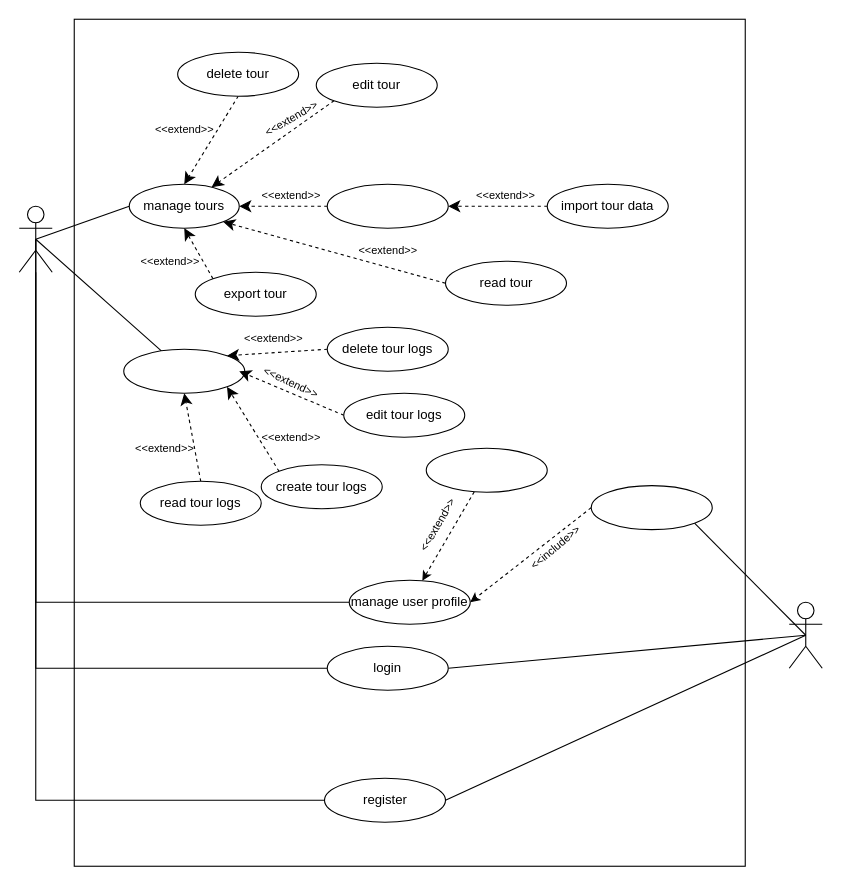
The diagram is 864 pixels wide and 886 high, and some of its shapes have lost their labels. Here are the shapes that lost their labels. From the top down, the centre of each, then its label:
[387,205]: create tour
[35,238]: User
[184,370]: manage tour logs
[486,469]: edit user
[651,507]: manage users
[805,634]: Administrator
